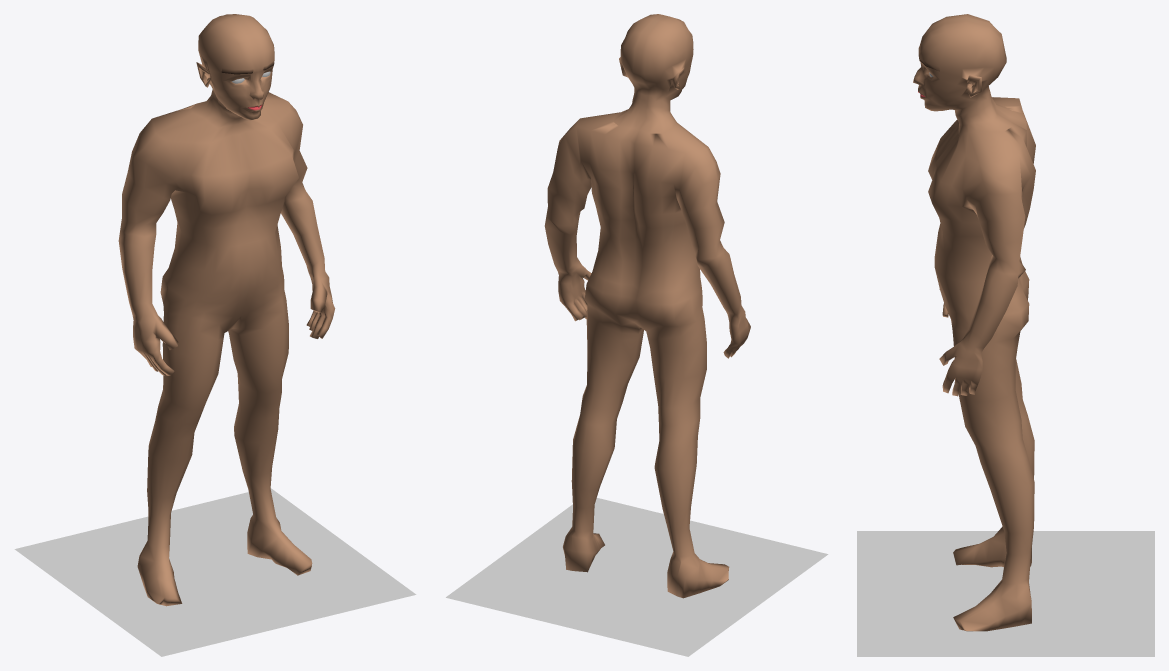
Rendered from NyeongFBX.fbx.
3 renders of one model, left to right at view 1: azimuth 30°, elevation 25°; view 2: azimuth 150°, elevation 25°; view 3: azimuth 270°, elevation 25°, orthographic. The views are drawn at different scales.
Visible parts, largest first — view 1: body, Plane; view 2: body, Plane; view 3: body, Plane.
Boxes of the visible parts, x1,y1,x2,y2 form: body: (118, 14, 335, 606); Plane: (14, 488, 416, 656); body: (544, 14, 750, 598); Plane: (446, 498, 828, 656); body: (913, 14, 1035, 631); Plane: (857, 531, 1154, 656).
Bounding box in the file's own units: 2.9 × 2.9 × 6.19.
